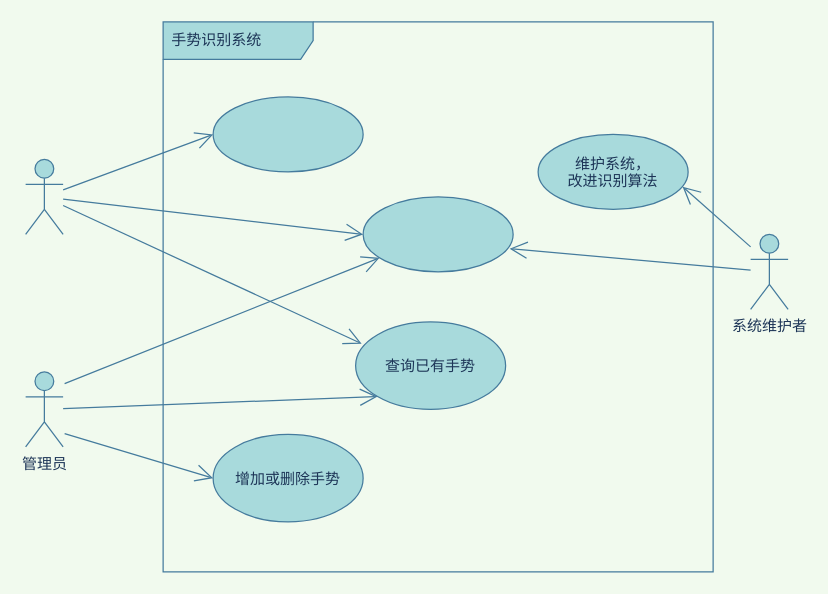
This 828x594 diagram has some shape labels left out. Each missing label, with the box of its shape:
使用者: (24, 158, 63, 234)
登陆: (362, 196, 513, 272)
识别手势: (212, 96, 363, 172)
